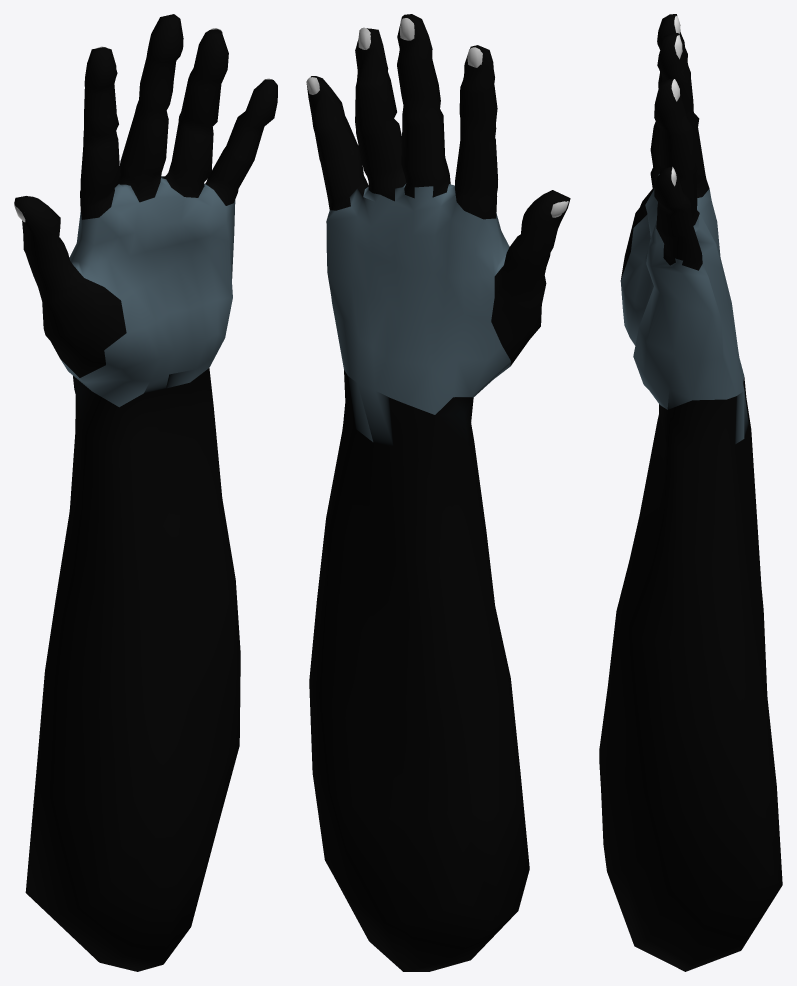
The model's file is hand.fbx.
3 views of the same model, side by side, from view 1: azimuth 30°, elevation 25°; view 2: azimuth 150°, elevation 25°; view 3: azimuth 270°, elevation 25° (orthographic).
Parts seen in each view (by area): view 1: Low Poly; view 2: Low Poly; view 3: Low Poly.
Boxes of the visible parts, x1,y1,x2,y2 form: Low Poly: (14,14,277,971); Low Poly: (306,14,570,971); Low Poly: (599,14,782,971).
Size of the model in its own units: 146 by 505 by 88.35.
